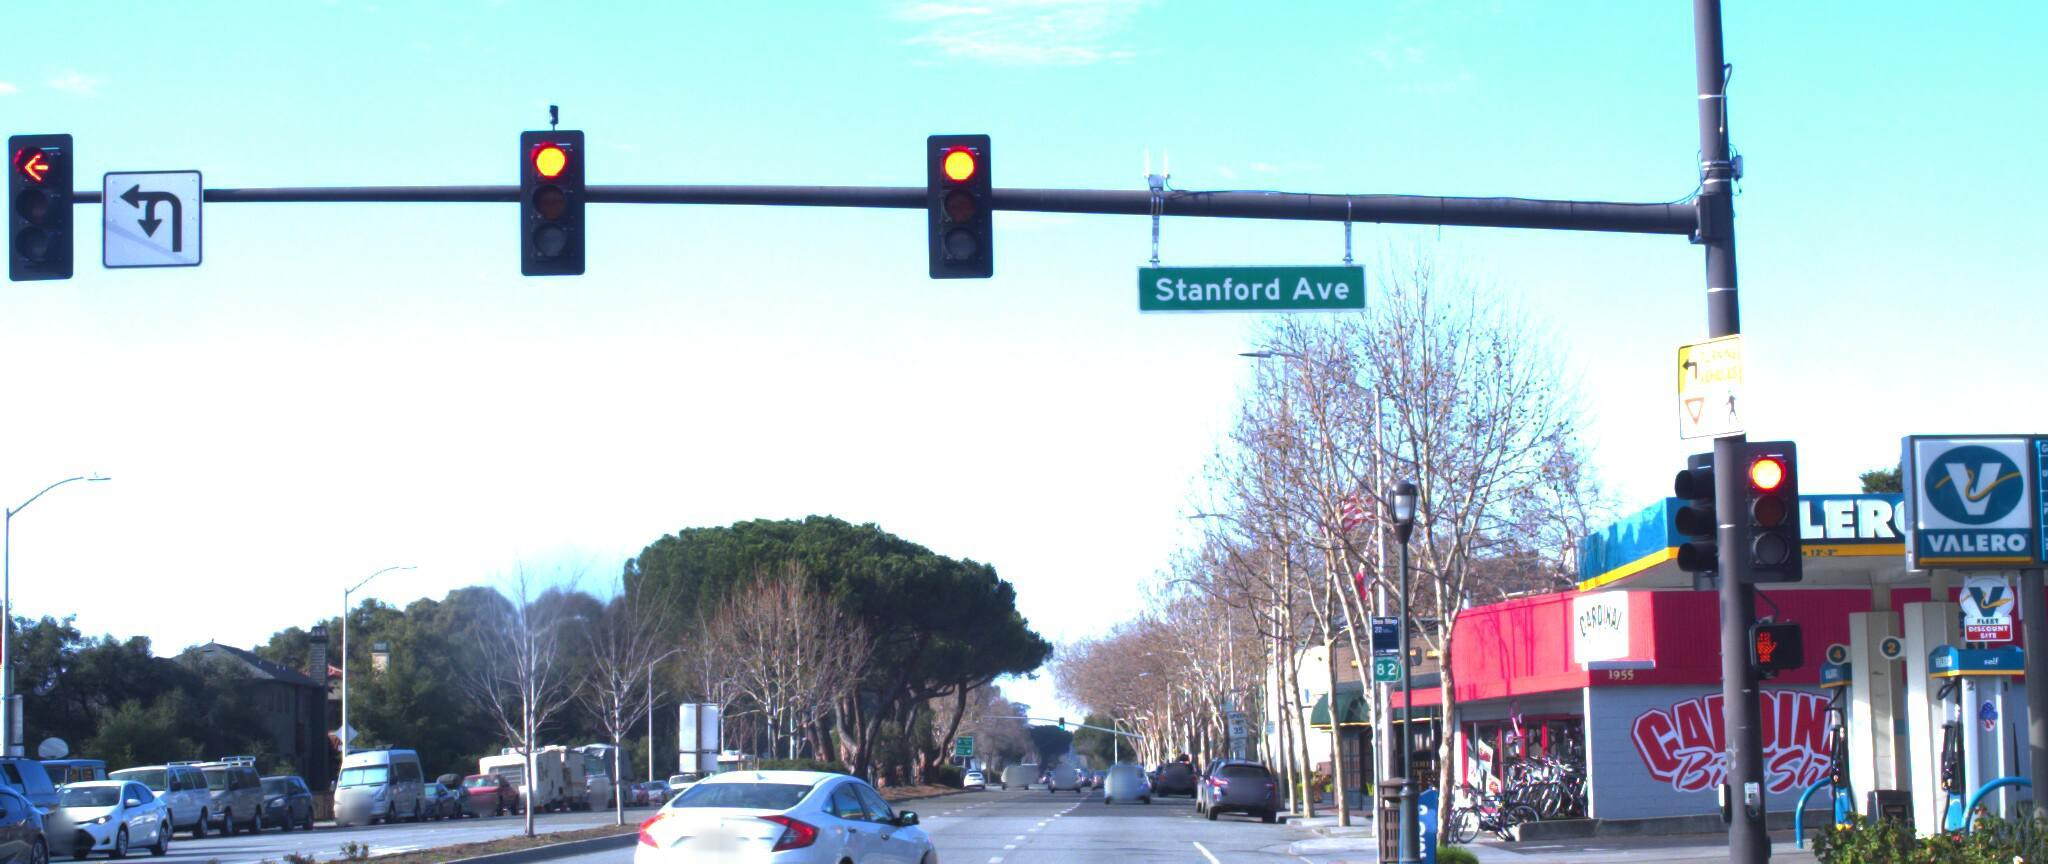bicycle: (1439, 770, 1526, 830)
car: (589, 748, 976, 864), (0, 770, 192, 864), (74, 747, 223, 837), (0, 770, 80, 864), (1198, 737, 1276, 812), (0, 724, 7, 864)
